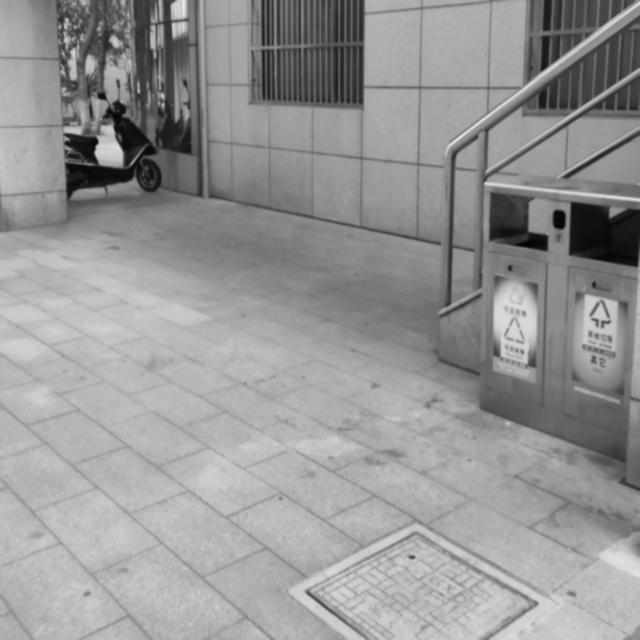ash bin: (473, 172, 637, 464)
motorbike: (63, 77, 161, 202)
